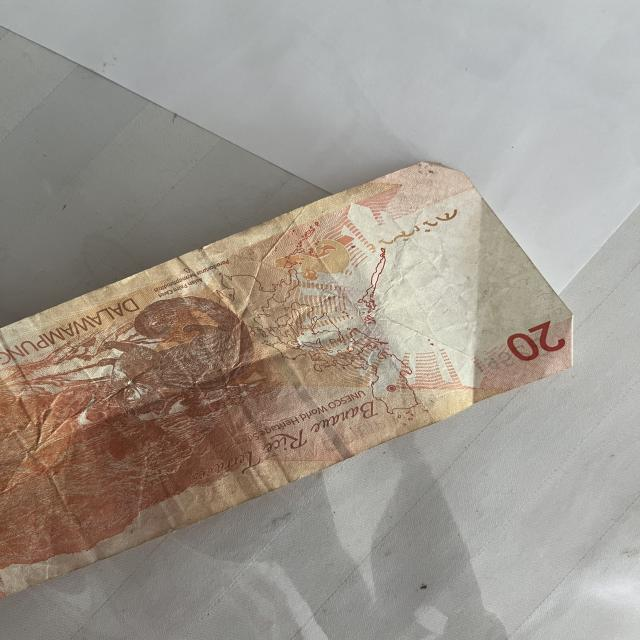20_civet: (105, 293, 262, 419)
20_civet_watermark: (284, 236, 358, 282)
